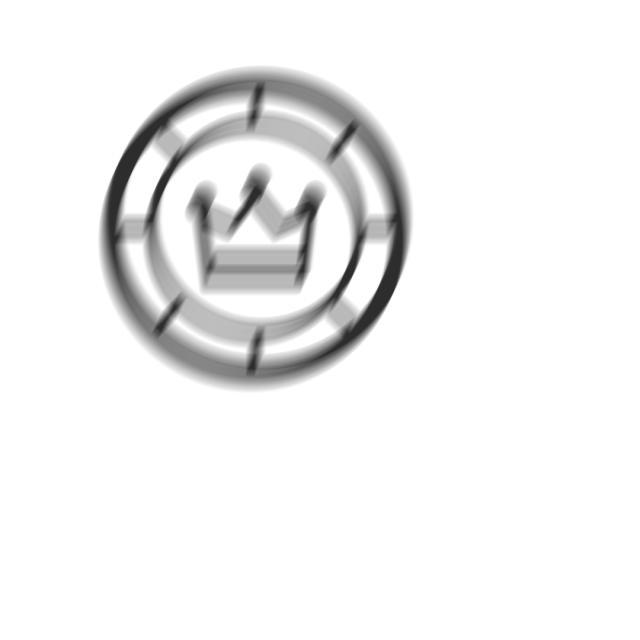coin: (95, 62, 418, 398)
